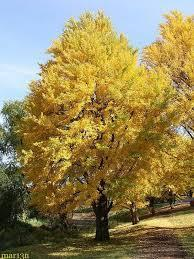tree: (14, 11, 182, 242)
